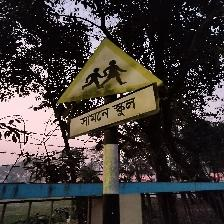School-in-front: (56, 37, 163, 140)
